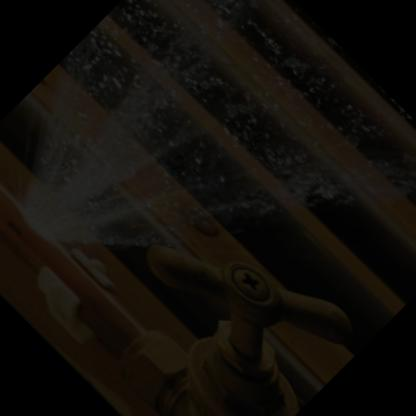burst: (17, 182, 77, 248)
